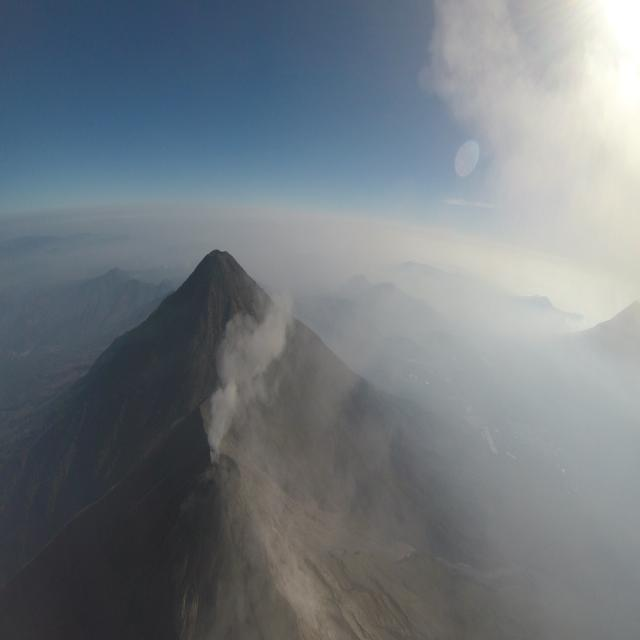Plume: (422, 0, 639, 217), (203, 296, 296, 458)
Summit: (198, 447, 243, 478)
